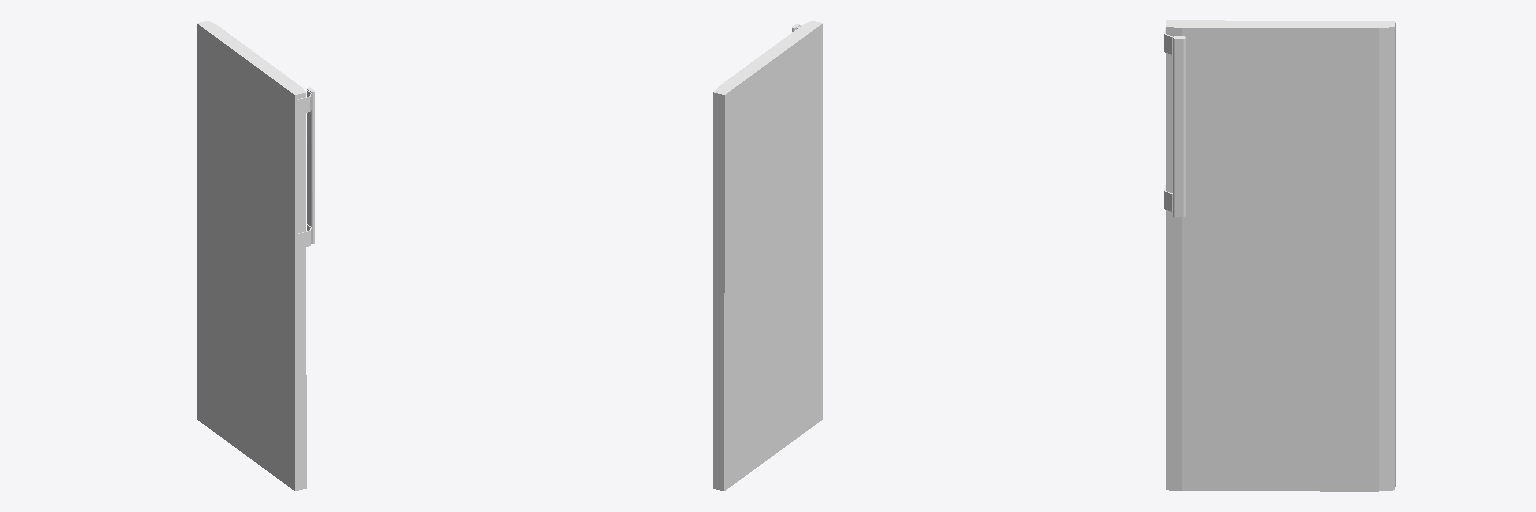
URDF robot description (fridge_door):
<?xml version="1.0"?>
<robot name="fridge_door">
<link name="fridge_door_base_link">
  <inertial>
    <mass value="0.0"/>
    <origin xyz="0 0 0" rpy="1.57 0 1.57"/>
    <inertia ixx="0.01" ixy="0" ixz="0" iyy="0.01" iyz="0" izz="0.01"/>
  </inertial>

  <visual>
    <origin xyz="0 0 0" rpy="1.57 0 1.57"/>
    <geometry>
      <mesh filename="package://meshes/fridge_door.dae" scale="1 1.2 0.85"/>
    </geometry>
    <!-- <material name="material_name">
      <color rgba="1.0 1.0 0.0 1.0"/>
    </material> -->
  </visual>

  <collision>
    <origin xyz="0 0 0" rpy="1.57 0 1.57"/>
    <geometry>
      <mesh filename="package://meshes/fridge_door.dae" scale="1 1.2 0.85"/>

      </geometry>
  </collision>
</link>
</robot>

--- Facts derived from the render (not from the file) ---
3 views of the same robot in one strip: view 1: azimuth 30°, elevation 25°; view 2: azimuth 150°, elevation 25°; view 3: azimuth 270°, elevation 25° (orthographic).
Robot: fridge_door — 1 links, 0 joints (none); root link fridge_door_base_link; default pose: all joints at 0.
Visible links, largest first — view 1: fridge_door_base_link; view 2: fridge_door_base_link; view 3: fridge_door_base_link.
Boxes of the visible links, x1,y1,x2,y2 form: fridge_door_base_link: (197, 21, 314, 490); fridge_door_base_link: (713, 21, 822, 490); fridge_door_base_link: (1164, 20, 1395, 491).
Size in the robot's own frame: 0.0983 by 0.7046 by 1.56 metres.
Meshes: 1 distinct files referenced, 1 mesh visuals loaded (1 Collada DAE).
